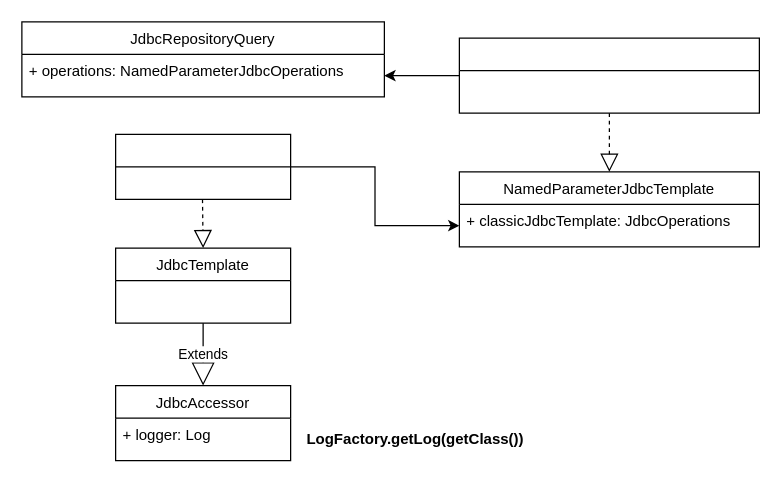
This 781x486 diagram has some shape labels left out. Each missing label, with the centre of its shape:
"JdbcOperations" goes at (x=202, y=166).
"NamedParameterJdbcOperations" goes at (x=608, y=75).
